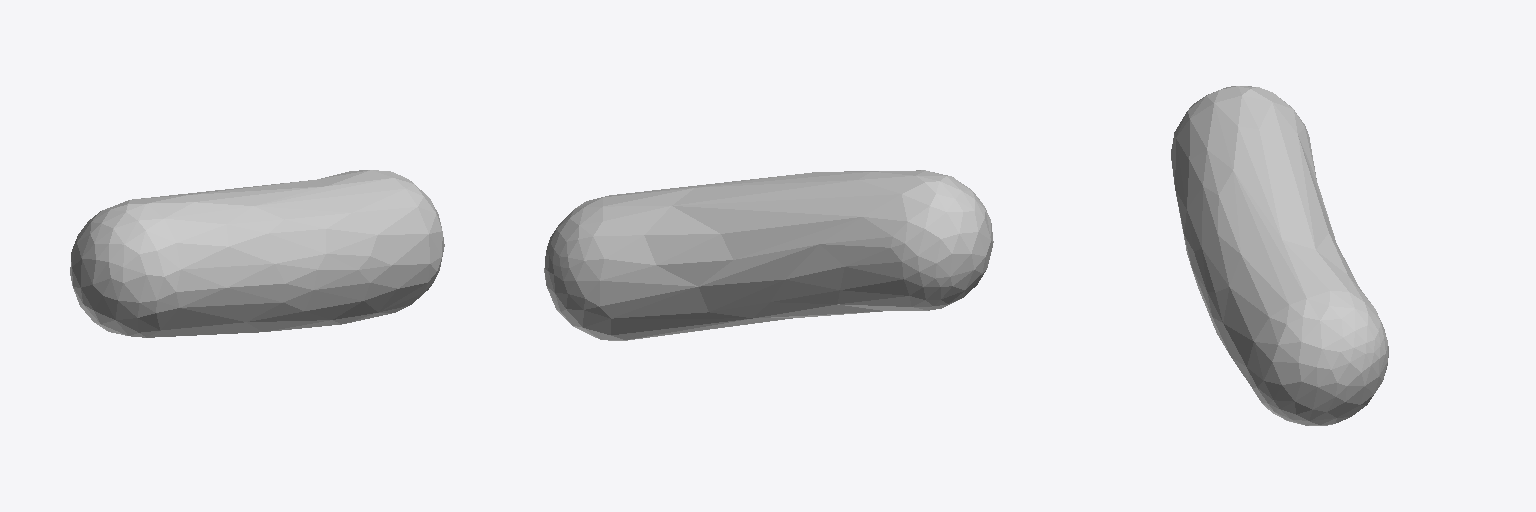
File: trunk of branch of common hepatic artery.obj
The picture shows the model from 3 angles: view 1: azimuth 30°, elevation 25°; view 2: azimuth 150°, elevation 25°; view 3: azimuth 270°, elevation 25°; orthographic projection.
Visible parts, largest first — view 1: grp1; view 2: grp1; view 3: grp1.
Part boxes in pixels (x1,y1,x2,y2): grp1: (70,170,444,337); grp1: (544,170,993,340); grp1: (1171,86,1388,425).
Size of the model in its own units: 12.11 by 5.75 by 5.83.